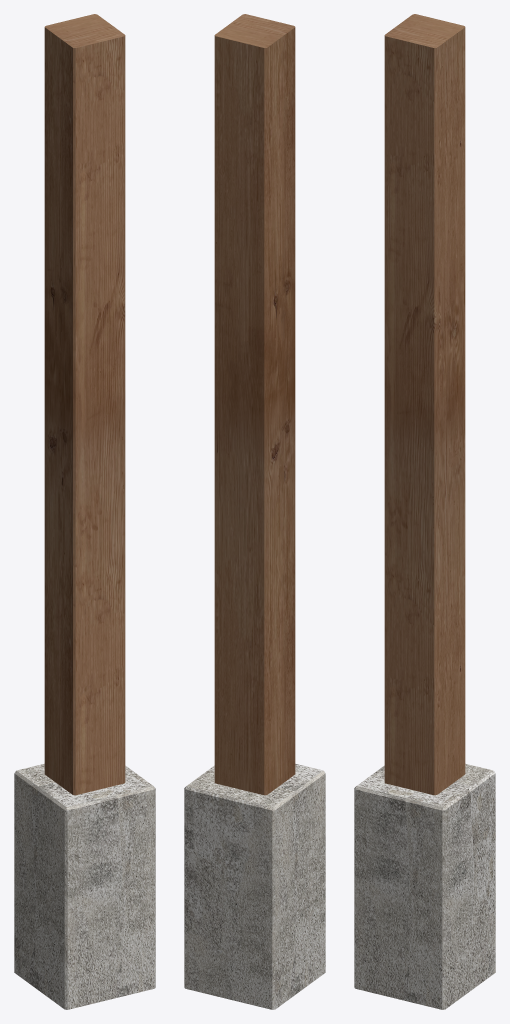
File: SM_JSH_PillarB.fbx
The picture shows the model from 3 angles, left to right: view 1: azimuth 30°, elevation 25°; view 2: azimuth 150°, elevation 25°; view 3: azimuth 330°, elevation 25°; orthographic projection.
Parts seen in each view (by area): view 1: SM_JSH_PillarB; view 2: SM_JSH_PillarB; view 3: SM_JSH_PillarB.
Part boxes in pixels (left/top/right/bottom): SM_JSH_PillarB: left=14, top=14, right=155, bottom=1009; SM_JSH_PillarB: left=184, top=14, right=325, bottom=1009; SM_JSH_PillarB: left=354, top=14, right=495, bottom=1009.
Size of the model in its own units: 36.49 by 36.49 by 365.
1 material, 1 textured.
